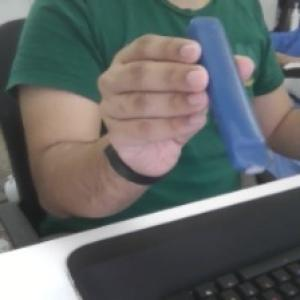Diamond-E-Ciggirate: (187, 14, 273, 179)
